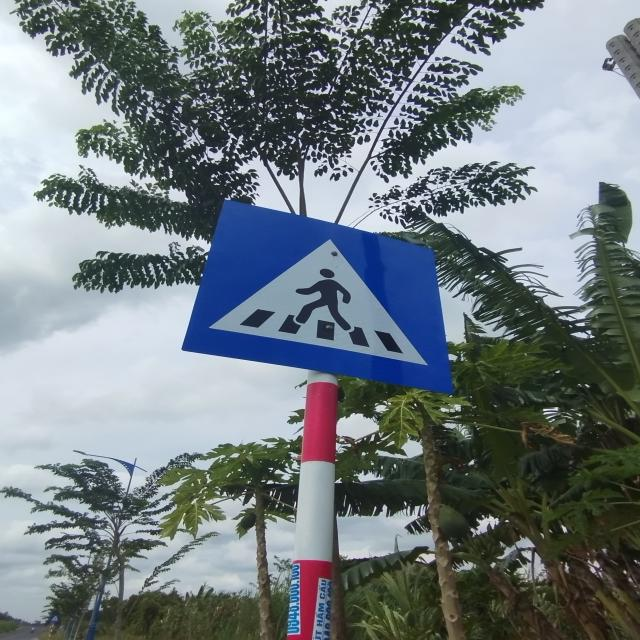Giao_Nhau_Duong_Uu_Tien: (182, 198, 454, 392)
